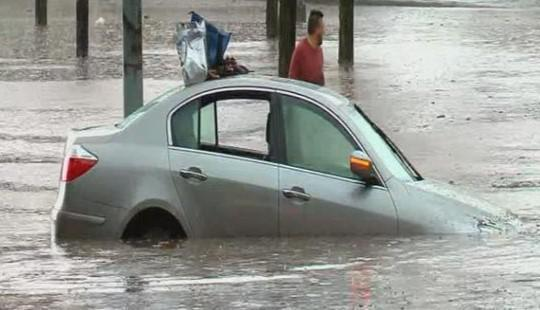water: (0, 1, 539, 308), (308, 2, 539, 308), (143, 2, 280, 101), (216, 102, 268, 151)
